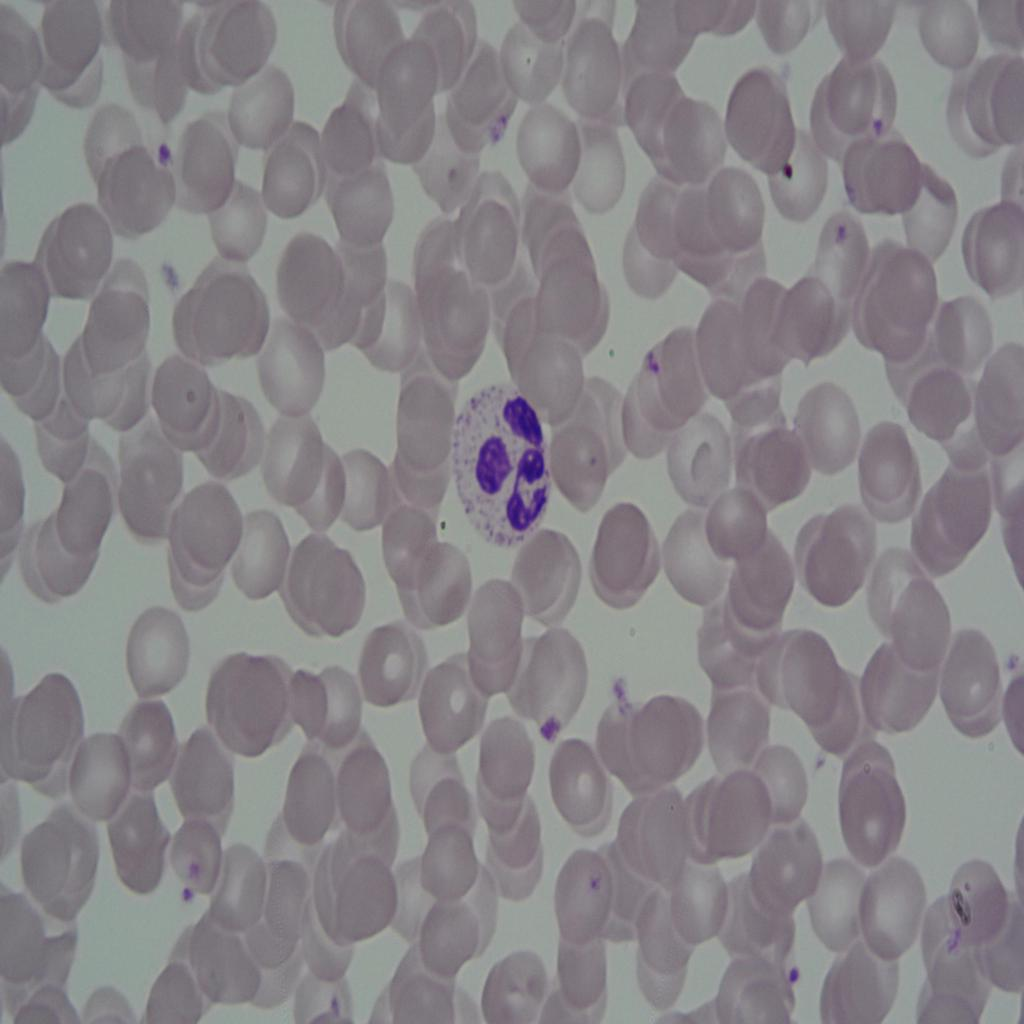Neutrofil: (448, 366, 561, 556)
Platelet: (538, 692, 572, 753), (145, 124, 176, 168), (865, 104, 893, 150), (158, 248, 185, 295), (639, 344, 663, 382), (780, 951, 800, 995), (828, 216, 846, 245)
